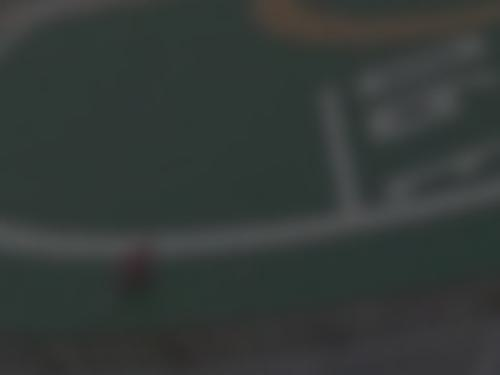Apron: (231, 1, 500, 51)
